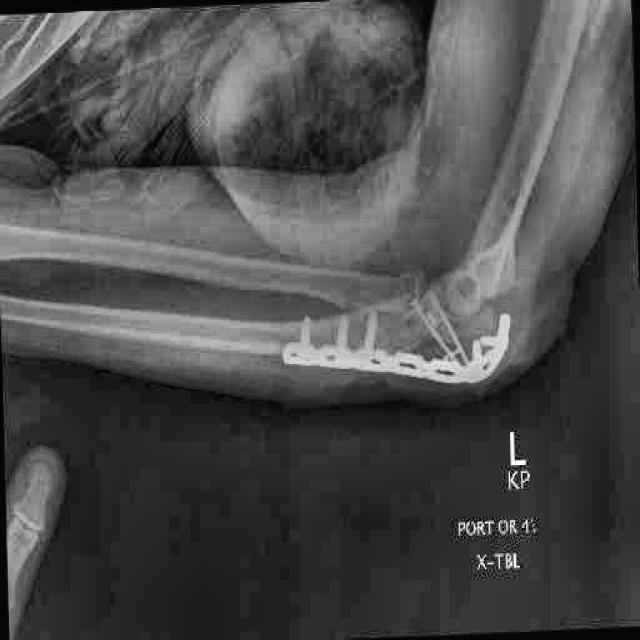elbow positive: (467, 236, 536, 315), (384, 255, 445, 329)
